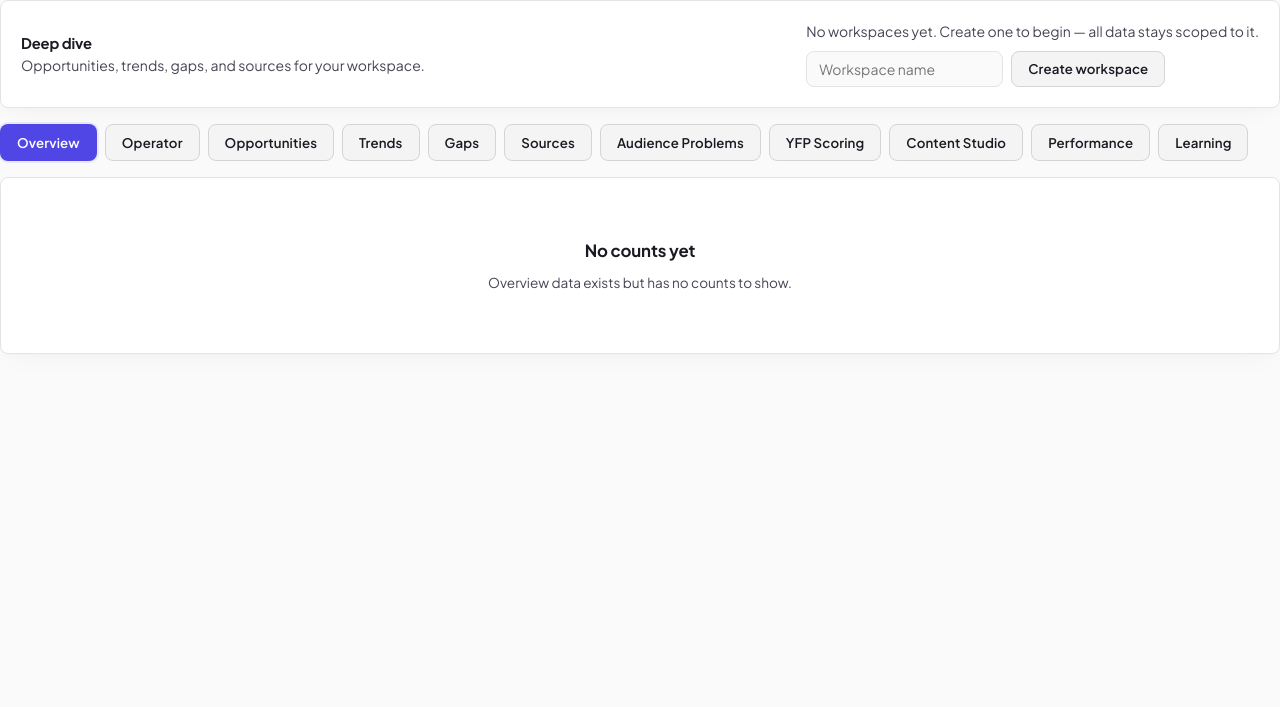
Test case: BrainPage opportunity feedback › renders counts, types, and reasons
Click the tab "Opportunities" at (271, 143), box [208,124,334,161]
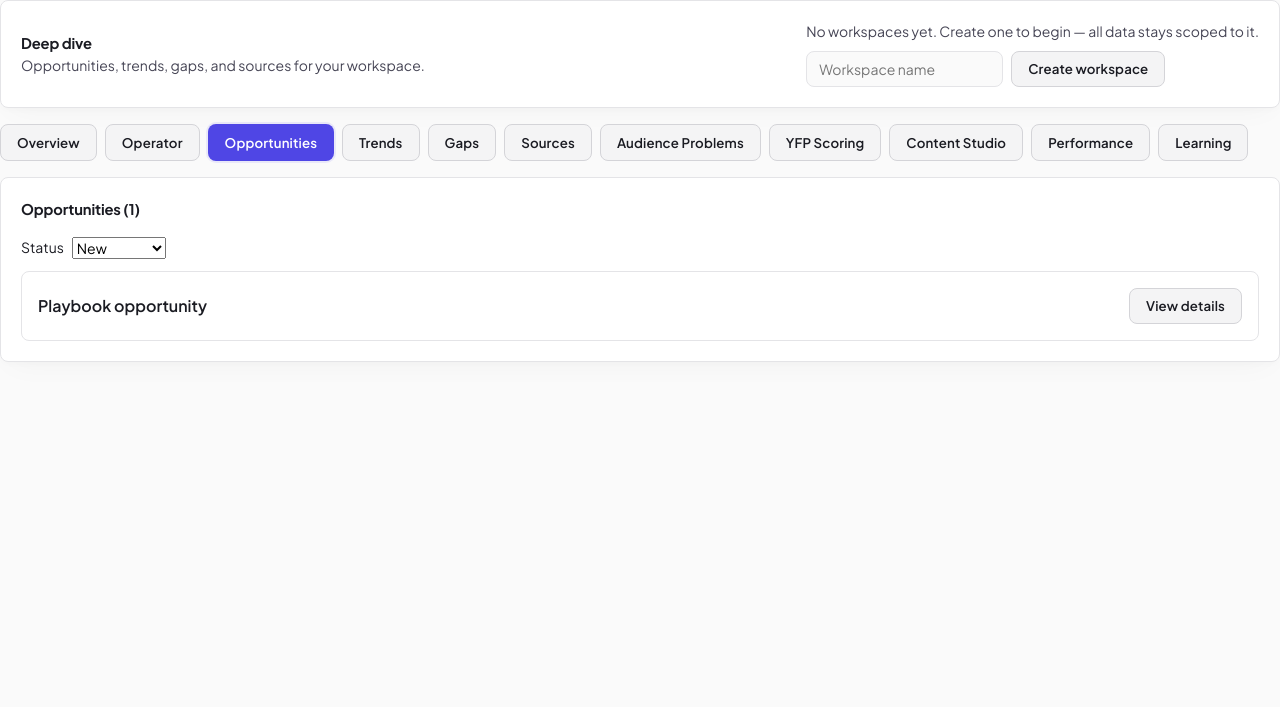
Now the text "Playbook opportunity" is shown, box [38,294,207,318]
Click the button "View details" at (1186, 306), box [1129,288,1242,324]
(page scrolled)
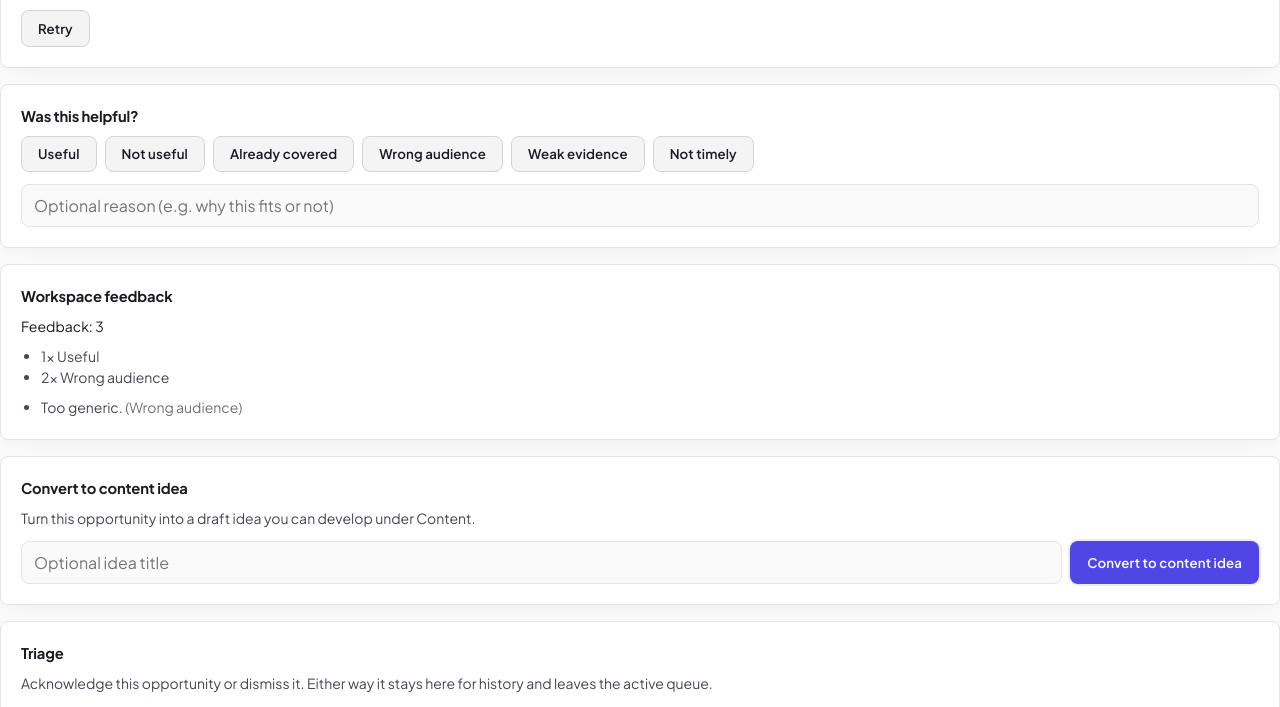
Now the heading "Workspace feedback" is shown, box [21,287,173,305]
Now the text "Feedback: 3" is shown, box [21,317,104,335]
Now the list item "1× Useful" is shown, box [41,347,99,365]
